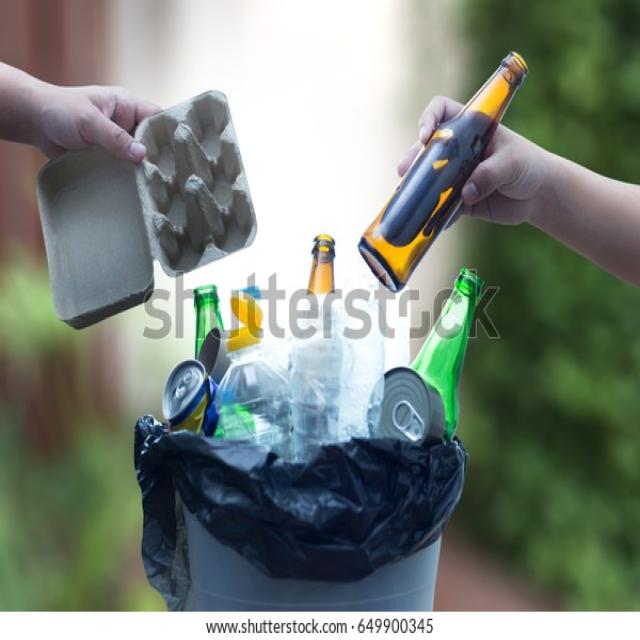glass: (382, 204, 428, 270), (435, 322, 465, 377)
metal: (376, 379, 430, 446), (168, 375, 204, 418)
plastic: (247, 357, 361, 442)
